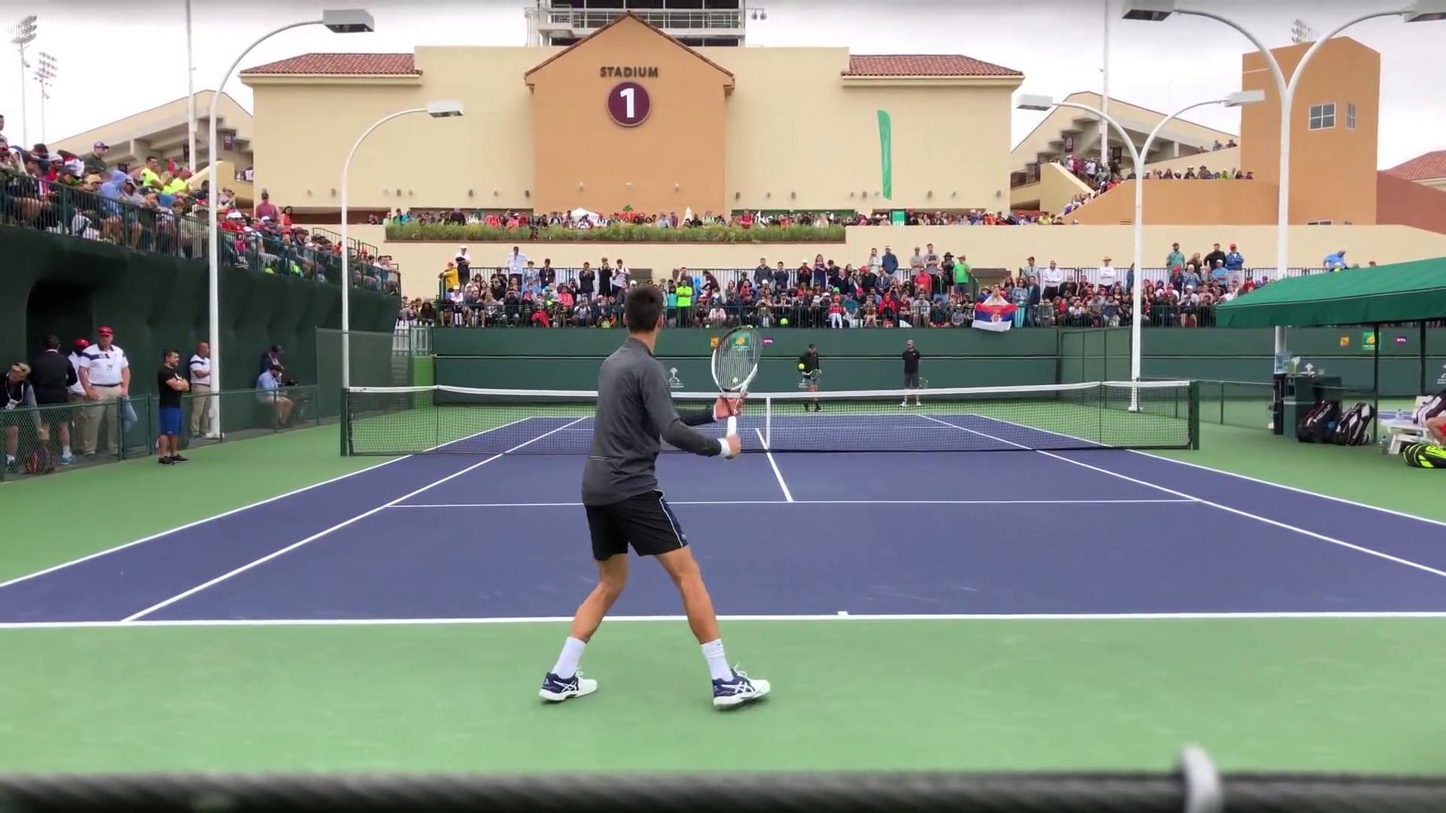ball: (798, 361, 806, 370)
